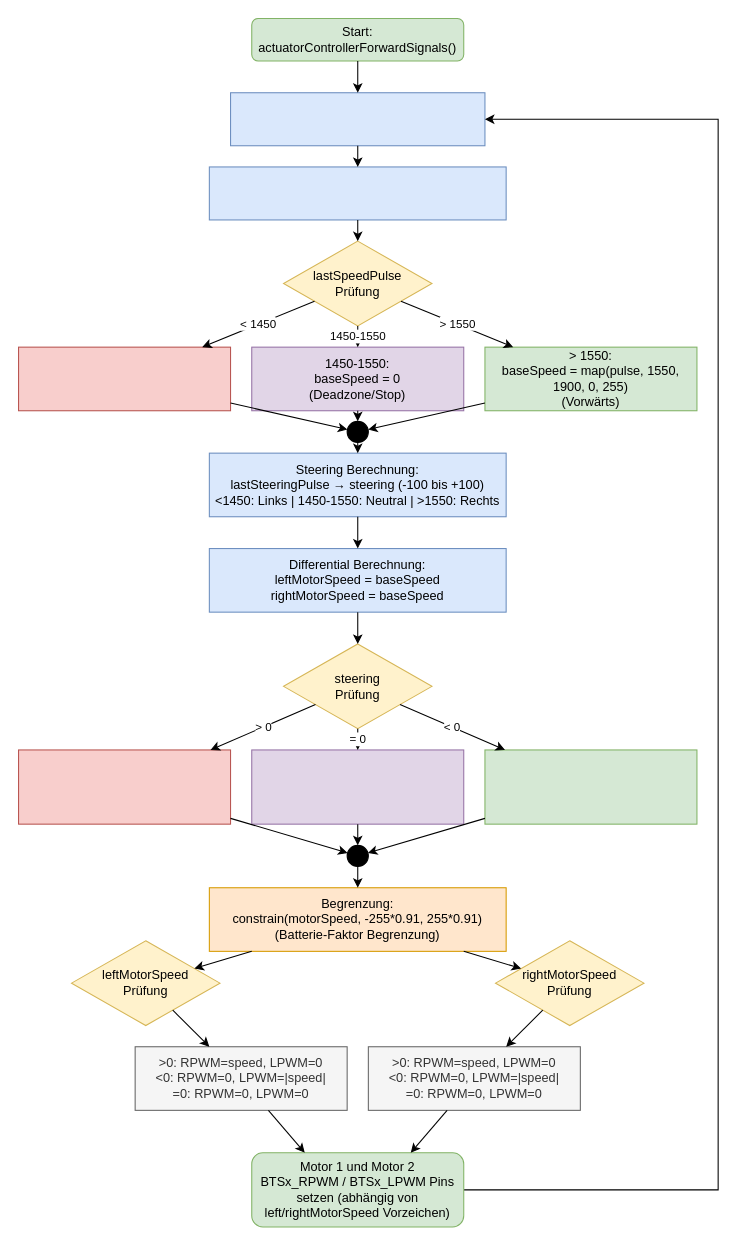
Image size: 745x1245. Some labels were removed from this diagram. The centre of each missing label's shape, as x and y in pixels:
< 1450: baseSpeed = map(pulse, 1100, 1450, -255, 0) (Rückwärts): (x=124, y=378)
lastSteeringPulse = pulseLength (ENGINE) lastSpeedPulse = pulseLength (AILERON): (x=357, y=193)
Pulse-Signal einlesen (pulseIn für ENGINE und AILERON): (x=357, y=119)
steering < 0: leftMotorSpeed = baseSpeed * (100+steering)/100 (Links drehen): (x=590, y=786)
steering = 0: Keine Änderung (Geradeaus): (x=357, y=786)
steering > 0: rightMotorSpeed = baseSpeed * (100-steering)/100 (Rechts drehen): (x=124, y=786)
